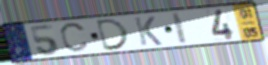4: (210, 8, 236, 41)
5: (28, 23, 61, 57)
C: (59, 21, 91, 54)
D: (95, 17, 132, 53)
I: (170, 11, 190, 46)
K: (132, 16, 165, 47)
